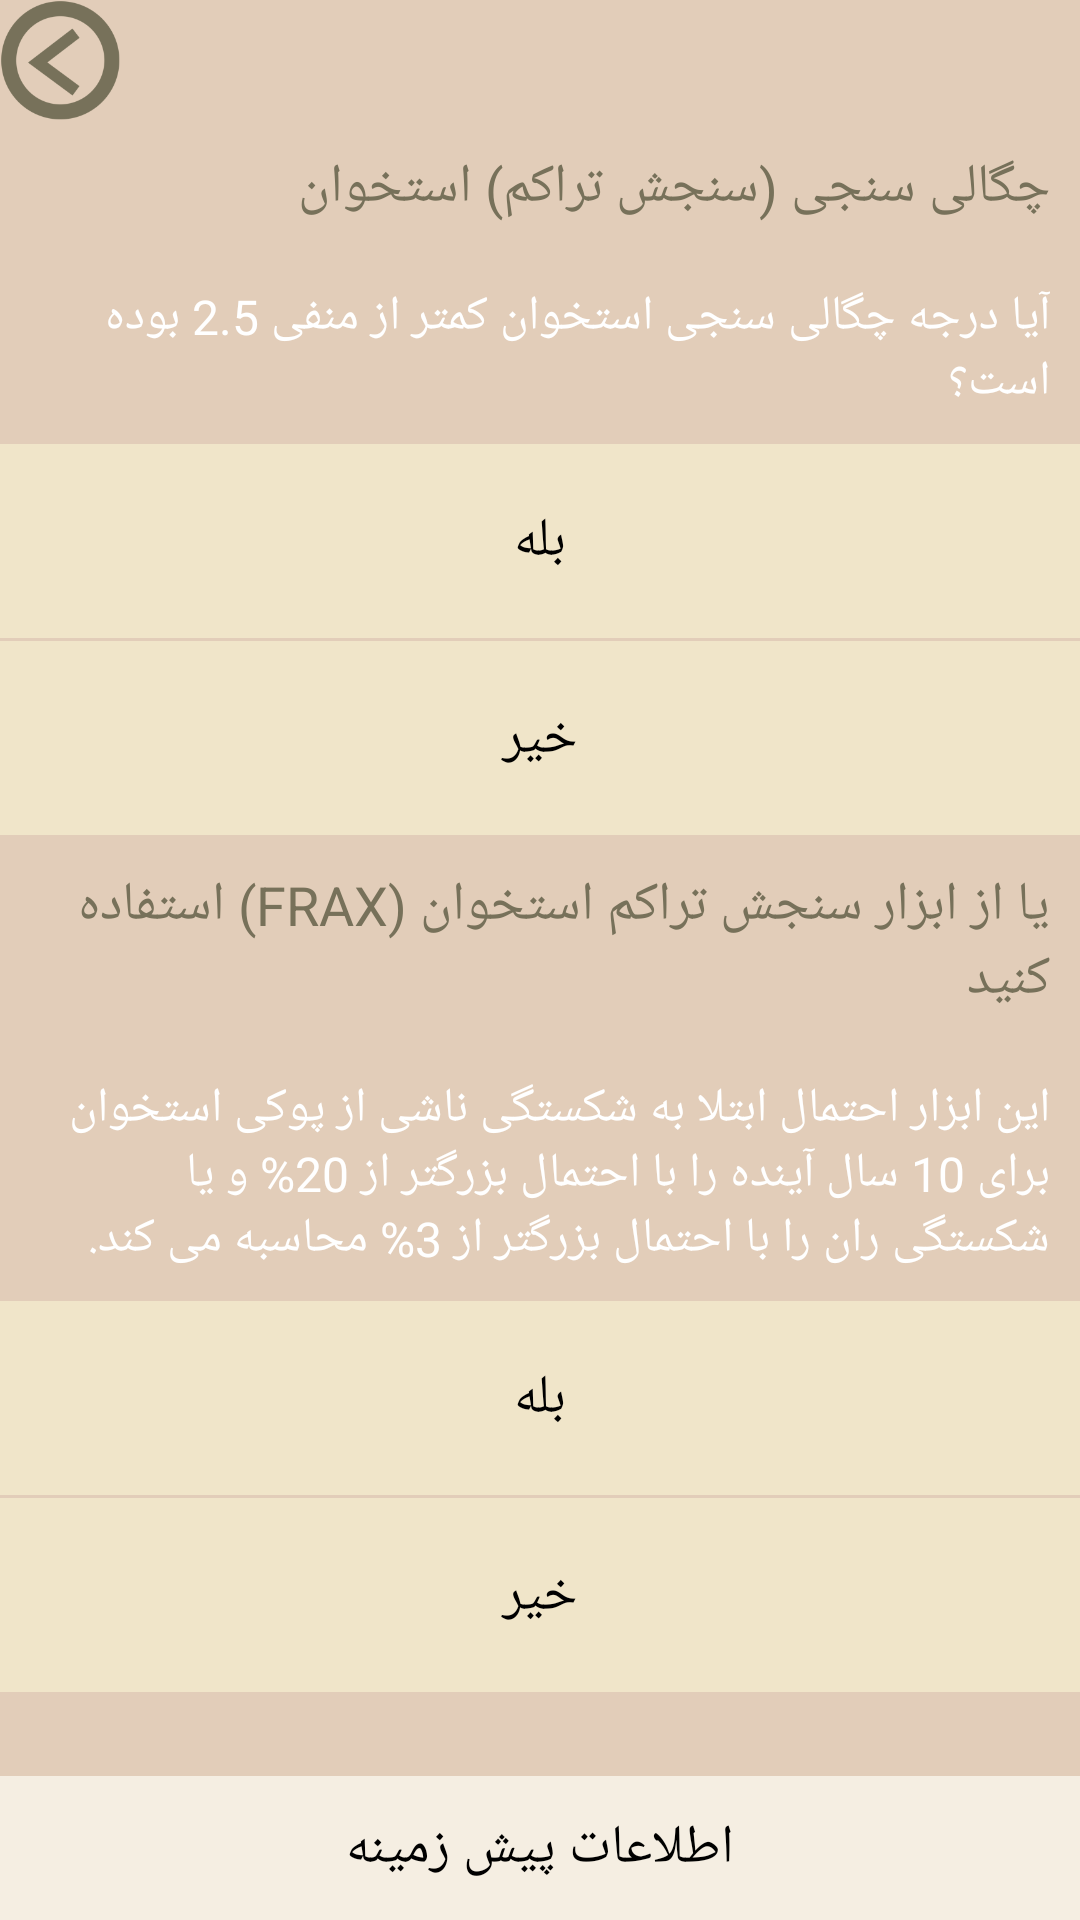

Screen size 1080 x 1920. Icon name, then its box in pixels as (left=x1, top=y1, right=x2, bottom=y2):
arrow left: (left=1, top=1, right=120, bottom=120)
